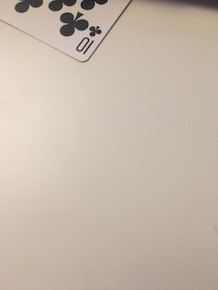TenOfClubs: (1, 1, 135, 65)
